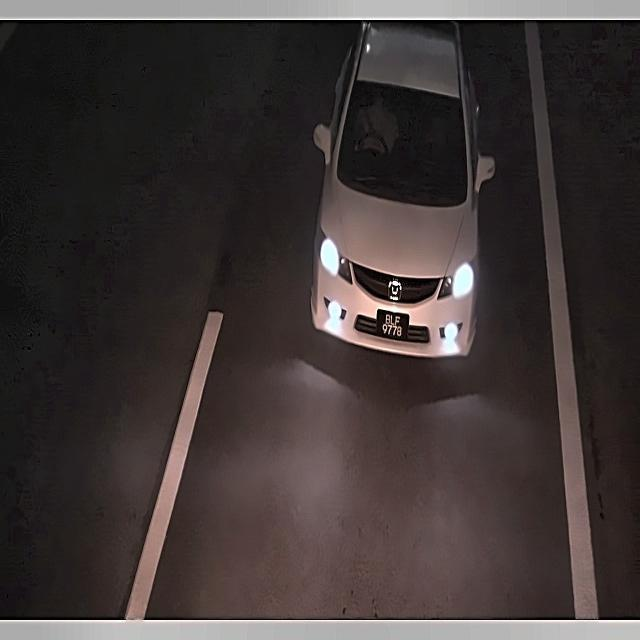car: (374, 304, 412, 344)
